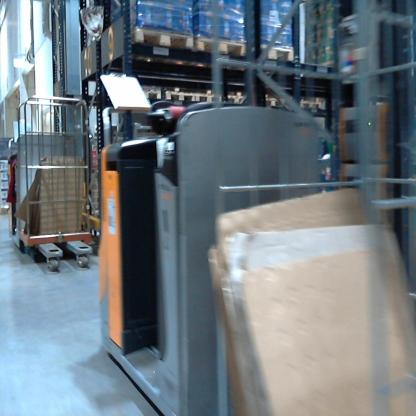pallet: (128, 23, 194, 52), (194, 30, 252, 62), (247, 36, 293, 61), (164, 86, 196, 108), (131, 82, 165, 102), (194, 90, 220, 109), (218, 91, 249, 106)
pallet_truck: (93, 100, 380, 415), (1, 136, 101, 277)
